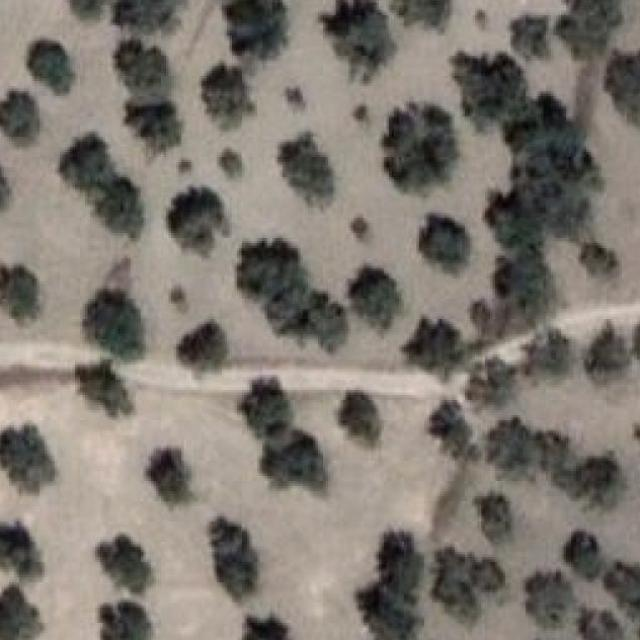Tree: (374, 104, 454, 195), (539, 430, 624, 514), (318, 0, 396, 79), (436, 540, 506, 621), (270, 274, 348, 344), (266, 428, 342, 498), (448, 50, 526, 118), (98, 526, 169, 598), (510, 108, 584, 174), (85, 286, 151, 359), (551, 0, 625, 65), (528, 165, 592, 240), (163, 184, 233, 250), (210, 518, 260, 610), (222, 0, 292, 65), (139, 434, 200, 506), (232, 236, 302, 298), (419, 210, 477, 282), (234, 375, 299, 439), (490, 256, 558, 317), (278, 134, 334, 207), (361, 579, 428, 640), (195, 63, 256, 128), (2, 420, 57, 491), (333, 388, 402, 443), (58, 126, 115, 192), (80, 363, 143, 421), (412, 312, 463, 382), (168, 319, 234, 373), (98, 177, 154, 240), (598, 46, 640, 130), (119, 41, 176, 99), (118, 0, 202, 39), (493, 190, 544, 254), (470, 292, 525, 350), (521, 575, 576, 631), (379, 522, 427, 586), (473, 483, 518, 551), (510, 13, 557, 74), (432, 410, 482, 465), (126, 94, 170, 155), (490, 418, 541, 470), (0, 89, 44, 149), (107, 600, 173, 640), (468, 360, 516, 413), (586, 327, 632, 380), (0, 265, 38, 326), (526, 332, 577, 377), (576, 238, 619, 291), (359, 271, 407, 318), (399, 0, 456, 39), (32, 46, 69, 102), (234, 609, 299, 640), (2, 522, 39, 573), (4, 594, 45, 640), (611, 562, 640, 620), (571, 607, 621, 640), (566, 534, 604, 573), (207, 144, 242, 183), (280, 84, 314, 121), (62, 0, 113, 22), (346, 210, 374, 248), (169, 155, 196, 181), (166, 283, 191, 311), (351, 101, 374, 130), (629, 418, 640, 452)
